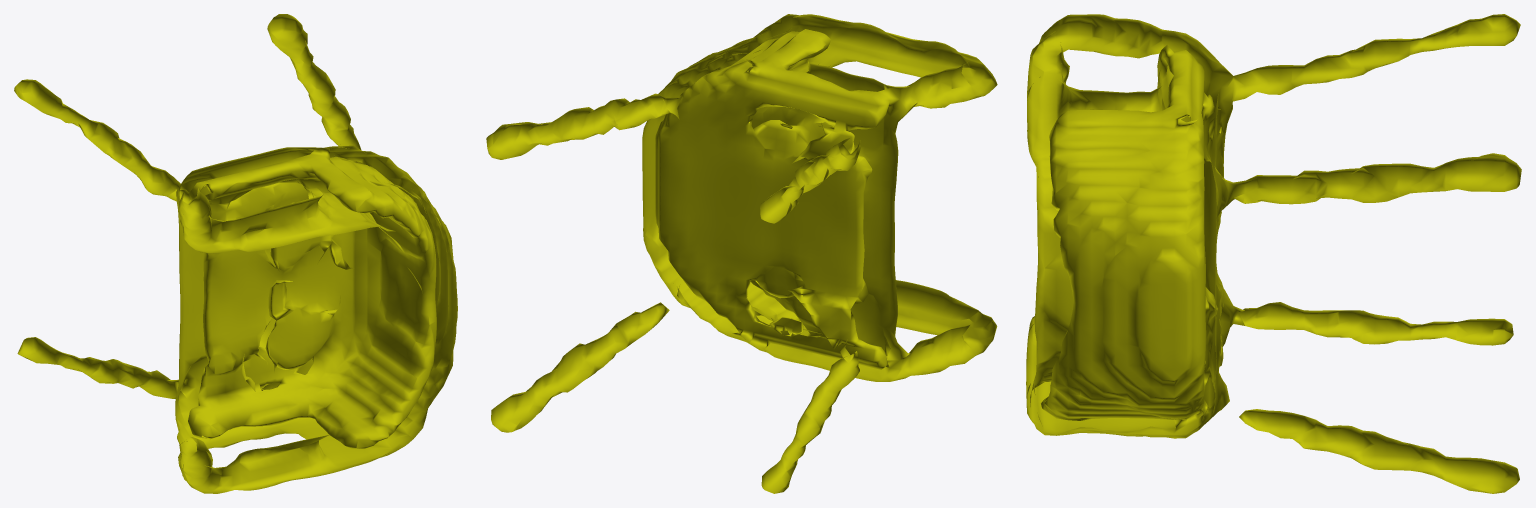
3 renders of one model, left to right at view 1: azimuth 30°, elevation 25°; view 2: azimuth 150°, elevation 25°; view 3: azimuth 270°, elevation 25°, orthographic. The views are drawn at different scales.
Visible parts, largest first — view 1: world; view 2: world; view 3: world.
Boxes of the visible parts, x1,y1,x2,y2 form: world: (14,14,457,493); world: (486,14,997,493); world: (1026,14,1521,493).
Bounding box in the file's own units: 33.62 × 31.83 × 42.01.
